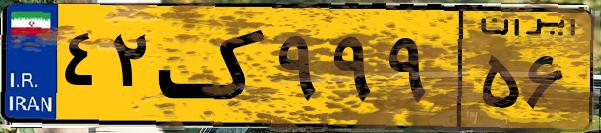2: (110, 28, 158, 98)
4: (57, 26, 110, 100)
5: (475, 38, 525, 113)
6: (525, 38, 570, 115)
9: (270, 28, 330, 110), (385, 28, 445, 110), (330, 28, 385, 110)
ک: (158, 12, 270, 120)
